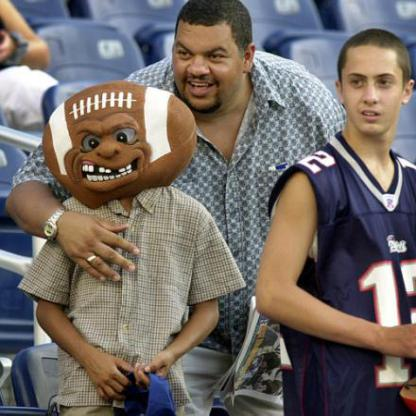face: (67, 90, 154, 200), (173, 1, 246, 116), (344, 30, 406, 137)
